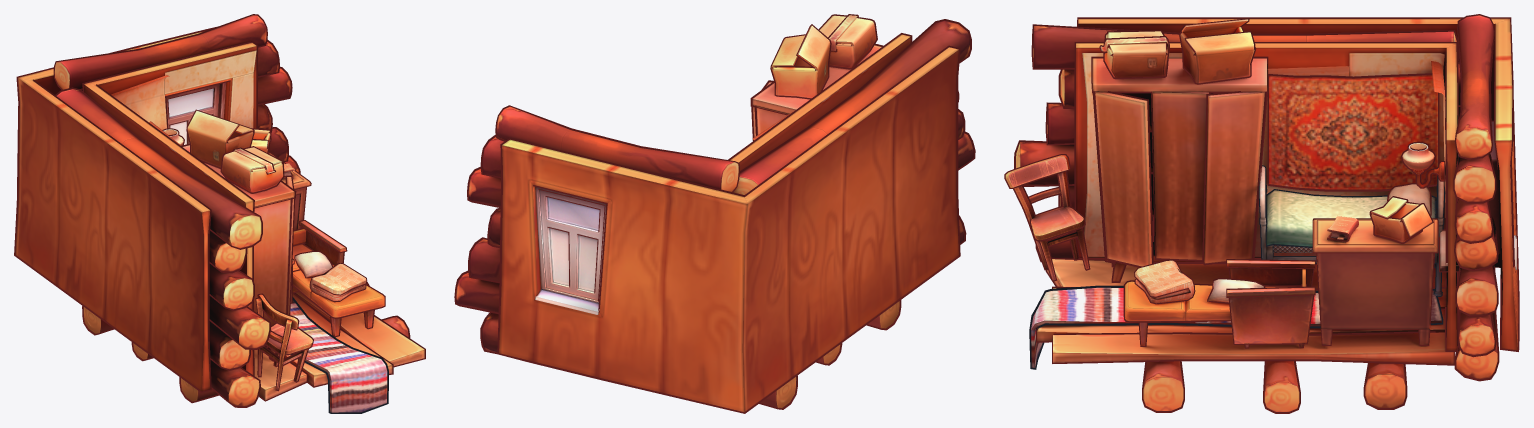
Rendered from rustic-bedroom.glb.
3 renders of one model, left to right at view 1: azimuth 30°, elevation 25°; view 2: azimuth 150°, elevation 25°; view 3: azimuth 270°, elevation 25°, orthographic. The views are drawn at different scales.
Parts seen in each view (by area): view 1: Object_3, Object_5, Object_4, Object_6; view 2: Object_3, Object_5, Object_4; view 3: Object_3, Object_5, Object_4, Object_6.
Part boxes in pixels (<box>): Object_3: <box>15,15,424,412</box>; Object_5: <box>14,14,425,407</box>; Object_4: <box>168,88,379,350</box>; Object_6: <box>291,297,388,413</box>; Object_3: <box>456,15,973,412</box>; Object_5: <box>454,14,975,413</box>; Object_4: <box>547,197,599,291</box>; Object_3: <box>1005,15,1518,411</box>; Object_5: <box>1004,14,1519,413</box>; Object_4: <box>1008,156,1459,328</box>; Object_6: <box>1029,165,1445,369</box>.
Size of the model in its own units: 2.84 by 2.64 by 4.08.
5 materials, 2 textured.
